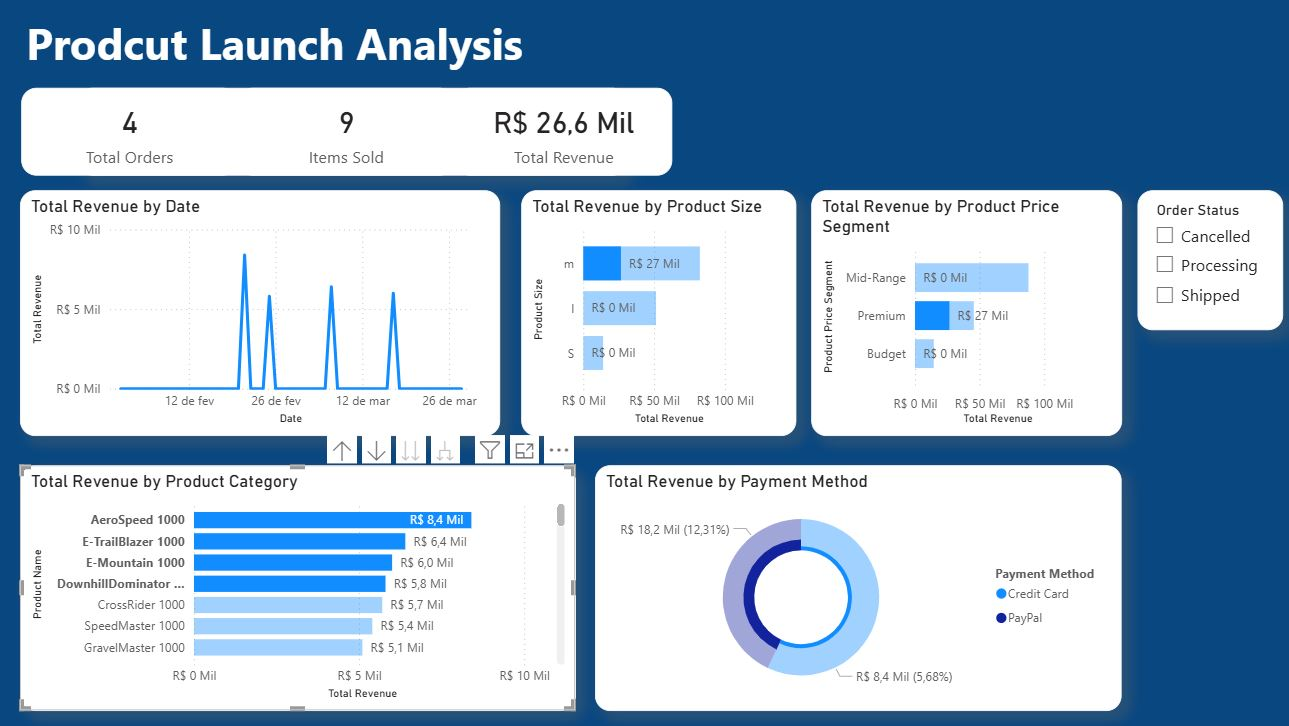

What the dashboard file says about the page in this screenshot:
{"tool":"powerbi","page":{"name":"Product Launch Analysis","canvas":[1280,720],"ordinal":0},"visuals":[{"type":"barChart","title":"Total Revenue by Product Category","fields":{"Y":["Sales.Total Revenue"],"Category":["Sales.Product Category","Sales.Product Subcategory","Sales.Product Name"]},"box":[29,463.3,546.5,241.3],"z":1000},{"type":"donutChart","title":"Total Revenue by Payment Method","fields":{"Y":["Sales.Total Revenue"],"Category":["Sales.Payment Method"]},"box":[594.8,463.3,517.6,241.3],"z":2000},{"type":"slicer","fields":{"Values":["Sales.Order Status"]},"box":[889.5,92.5,223.3,85.4],"z":3000},{"type":"card","fields":{"Values":["Sales.Total Revenue"]},"box":[426.5,92.2,213.7,86],"z":4000},{"type":"card","title":"Order Quantity","fields":{"Values":["Count(Sales.Order ID)"]},"box":[30.1,92.2,172.9,86],"z":5000},{"type":"card","fields":{"Values":["Sum(Sales.Order Quantity)"]},"box":[223.4,92.2,181.8,86],"z":6000},{"type":"lineChart","title":"Total Revenue by Date","fields":{"Category":["Calendar.Date.Variation.Hierarquia de datas.Ano"],"Y":["Sales.Total Revenue"]},"box":[29,193,471.7,241.3],"z":7000},{"type":"textbox","box":[30.1,13.3,602.1,68.3],"z":8000},{"type":"barChart","title":"Total Revenue by Product Size","fields":{"Y":["Sales.Total Revenue"],"Category":["Sales.Product Size"]},"box":[522.4,193,270.2,241.3],"z":9000},{"type":"clusteredBarChart","title":"Total Revenue by Product Price Segment","fields":{"Category":["Sales.Product Price Segment"],"Y":["Sales.Total Revenue"]},"box":[807.1,193,305.2,241.3],"z":10000}]}

Visuals, with their boxes in screenshot pixels (x1, y1, x2, y2), scaled from the page's 1280x720 canvas onto the 1289x726 screenshot:
"Total Revenue by Product Category" barChart: pyautogui.locateOnScreen(29, 467, 580, 710)
"Total Revenue by Payment Method" donutChart: pyautogui.locateOnScreen(599, 467, 1120, 710)
slicer - Sales.Order Status: pyautogui.locateOnScreen(896, 93, 1121, 179)
card - Sales.Total Revenue: pyautogui.locateOnScreen(429, 93, 645, 180)
"Order Quantity" card: pyautogui.locateOnScreen(30, 93, 204, 180)
card - Sum(Sales.Order Quantity): pyautogui.locateOnScreen(225, 93, 408, 180)
"Total Revenue by Date" lineChart: pyautogui.locateOnScreen(29, 195, 504, 438)
textbox: pyautogui.locateOnScreen(30, 13, 637, 82)
"Total Revenue by Product Size" barChart: pyautogui.locateOnScreen(526, 195, 798, 438)
"Total Revenue by Product Price Segment" clusteredBarChart: pyautogui.locateOnScreen(813, 195, 1120, 438)
